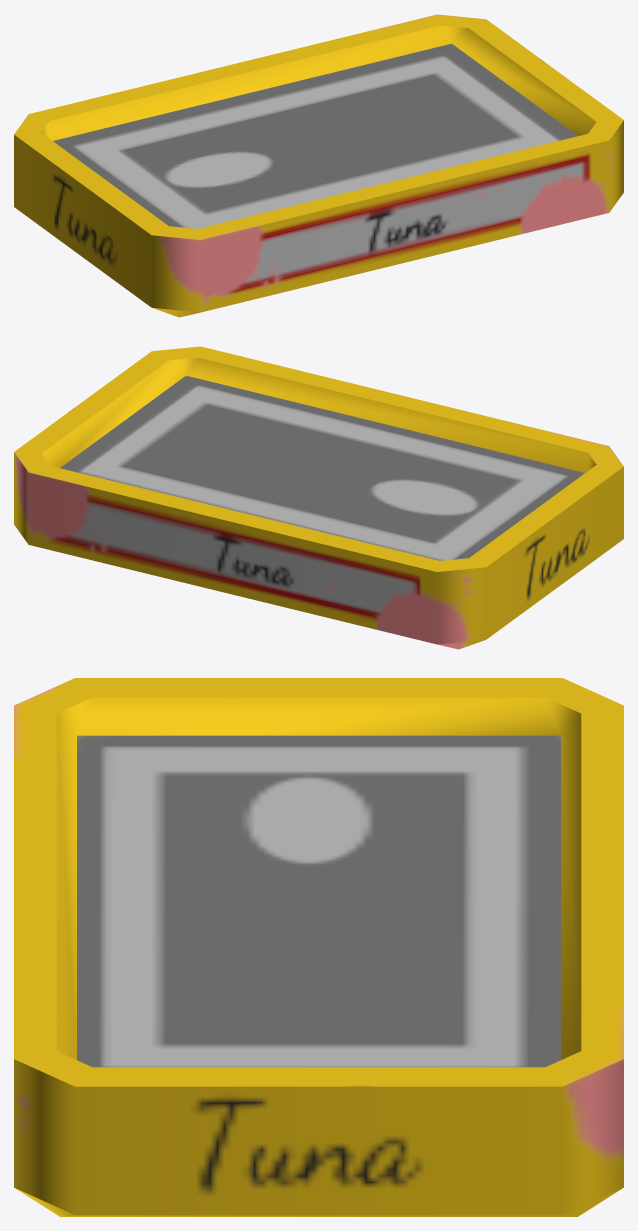
Rendered from Canned_08.fbx.
The picture shows the model from 3 angles, top to bottom: view 1: azimuth 30°, elevation 25°; view 2: azimuth 150°, elevation 25°; view 3: azimuth 270°, elevation 25°; orthographic projection. The views are drawn at different scales.
Visible parts, largest first — view 1: Canned_08; view 2: Canned_08; view 3: Canned_08.
Boxes of the visible parts, x1=… form: Canned_08: x1=14, y1=14, x2=623, y2=317; Canned_08: x1=14, y1=346, x2=623, y2=649; Canned_08: x1=14, y1=678, x2=623, y2=1216.
Bounding box in the file's own units: 17.43 × 2.99 × 11.
